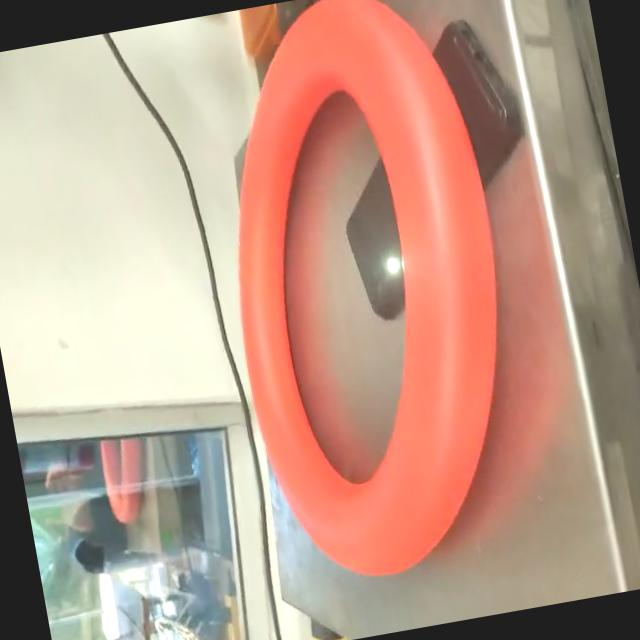note: (182, 0, 550, 595)
